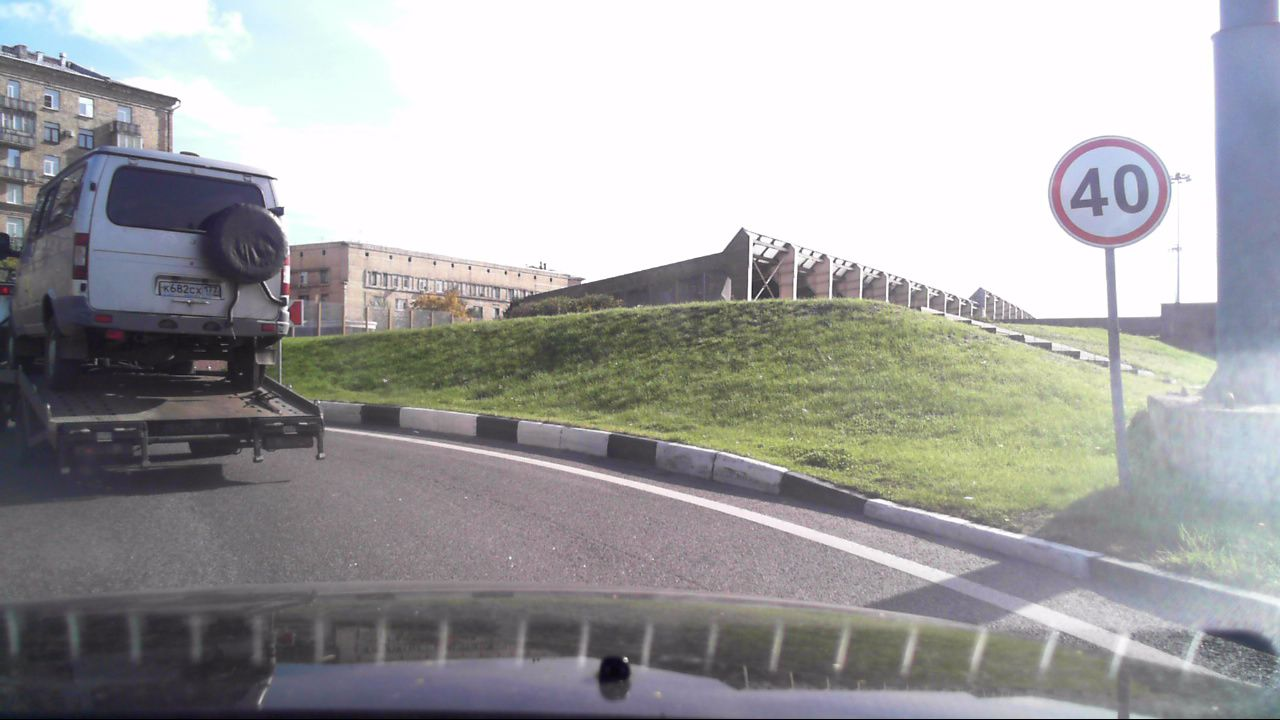speed_warning_40: (1047, 136, 1169, 248)
